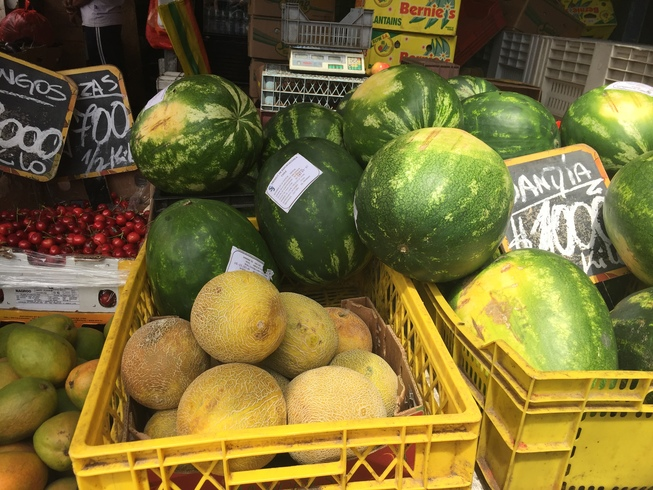precio: (452, 144, 643, 306), (43, 58, 163, 189), (1, 35, 95, 186)
